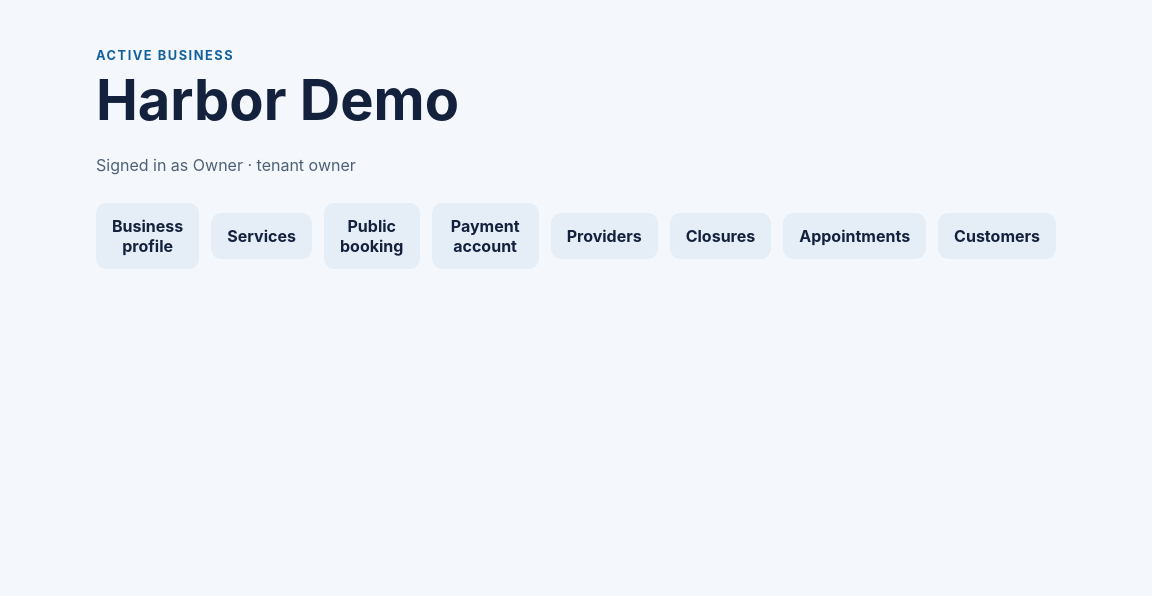
Test: Business Hub › edits and submits business profile fields
Click the button "Business profile" at (148, 236), box [96,203,199,269]
(page scrolled)
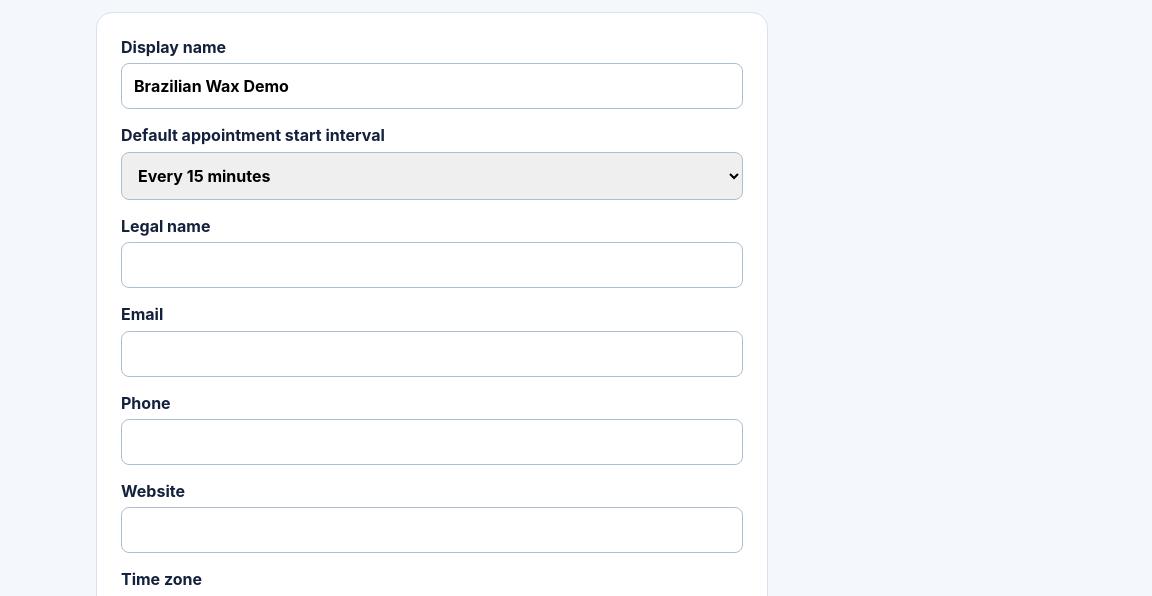
Type "Brazilian Wax Demo LLC" into the field labelled "Legal name" at (432, 265), box [121,242,743,288]
(page scrolled)
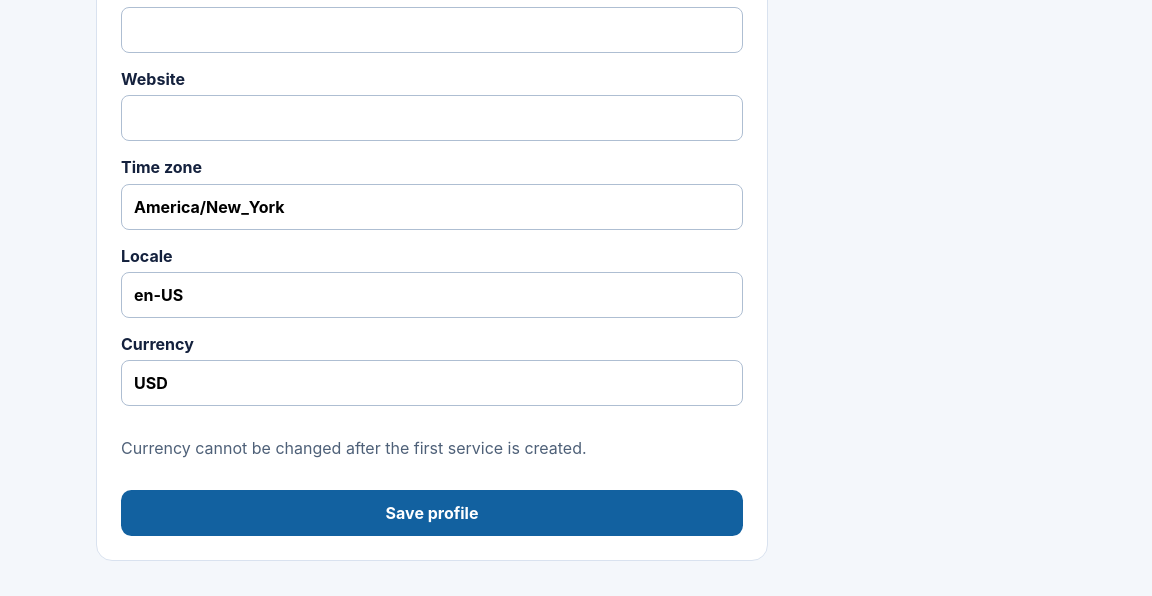
Click the button "Save profile" at (432, 513), box [121,490,743,536]
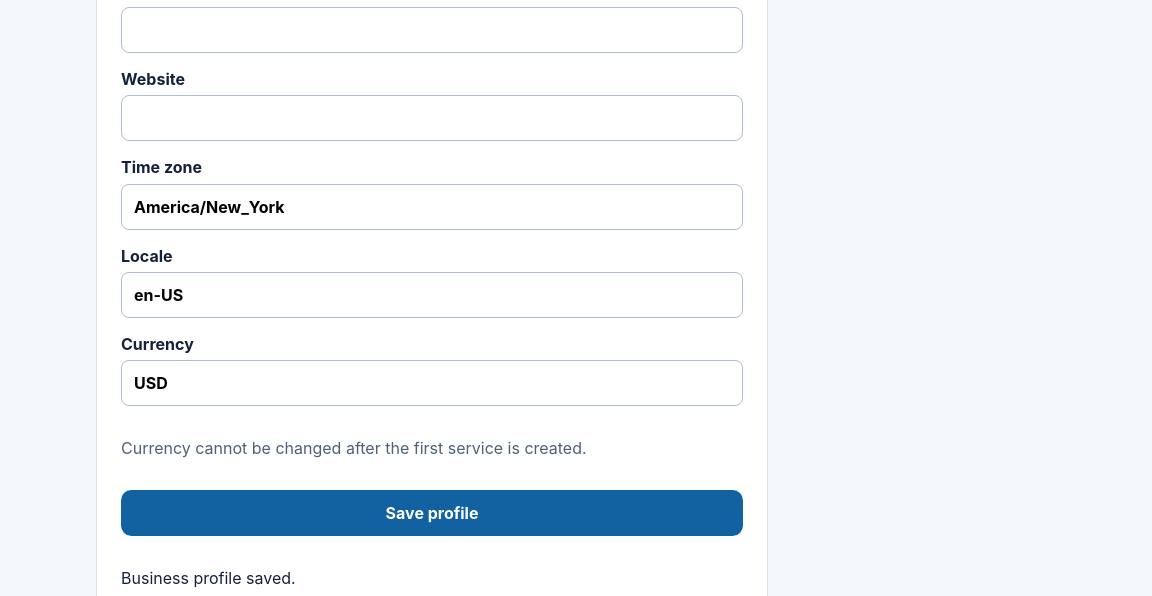
Result: the message shows "Business profile saved" at [121,568,296,588]
